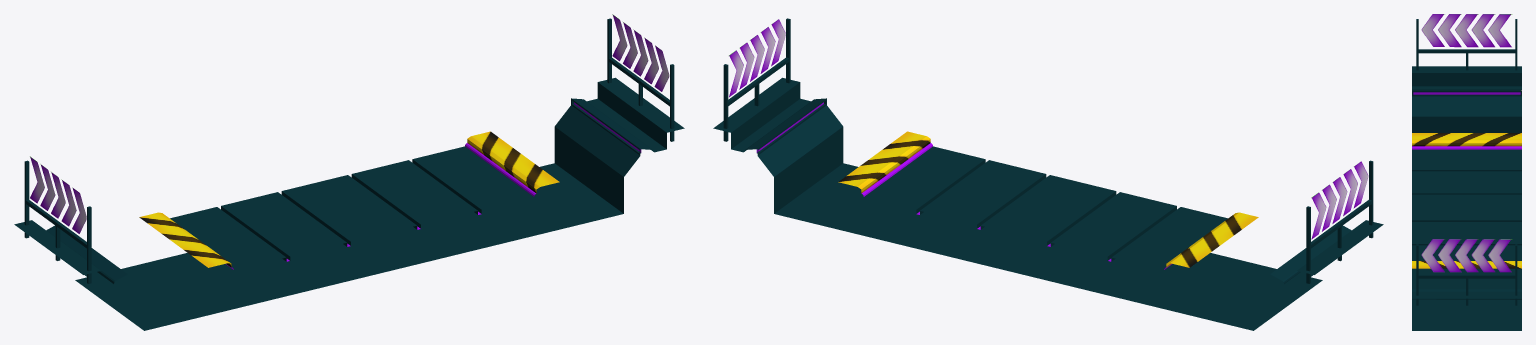
File: Pista_violeta.fbx
The picture shows the model from 3 angles, left to right: view 1: azimuth 30°, elevation 25°; view 2: azimuth 150°, elevation 25°; view 3: azimuth 270°, elevation 25°; orthographic projection. The views are drawn at different scales.
Visible parts, largest first — view 1: Pista_violeta; view 2: Pista_violeta; view 3: Pista_violeta.
Part boxes in pixels (left/top/right/bottom): Pista_violeta: left=14, top=14, right=684, bottom=330; Pista_violeta: left=713, top=18, right=1383, bottom=330; Pista_violeta: left=1412, top=14, right=1521, bottom=330.
Size of the model in its own units: 1002 by 225 by 200.
